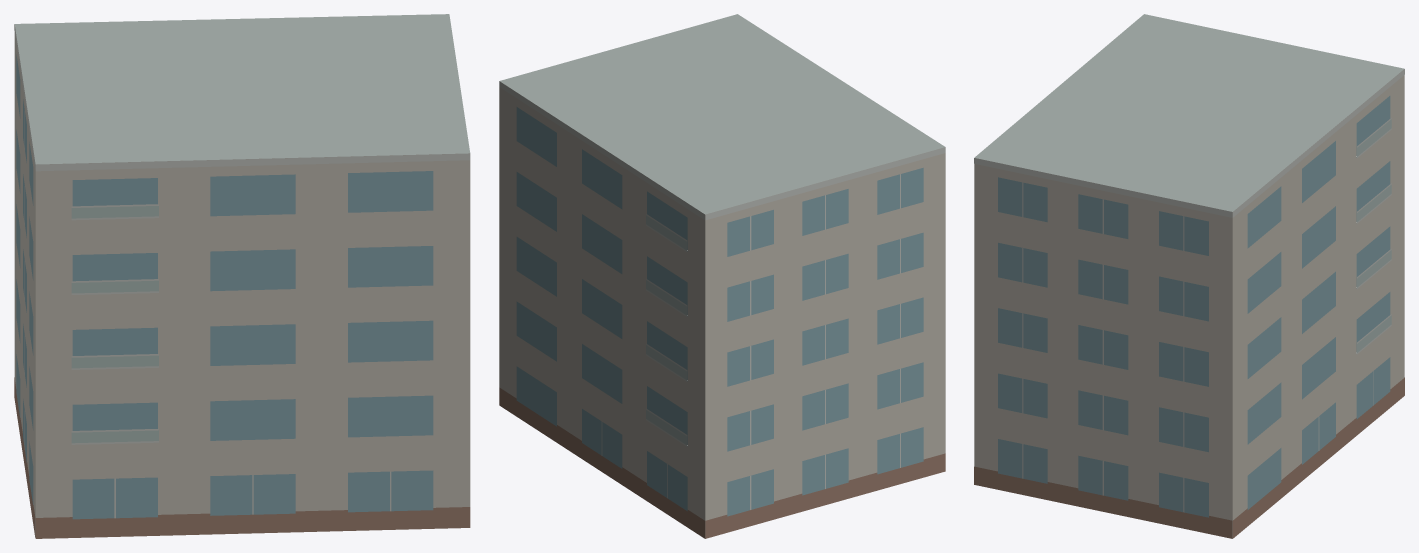
Rendered from survey-upis-33043846.glb.
3 renders of one model, left to right at view 1: azimuth 30°, elevation 25°; view 2: azimuth 150°, elevation 25°; view 3: azimuth 270°, elevation 25°, orthographic. The views are drawn at different scales.
Visible parts, largest first — view 1: survey-upis-33043846.tmp; view 2: survey-upis-33043846.tmp; view 3: survey-upis-33043846.tmp.
Boxes of the visible parts, <box> form: survey-upis-33043846.tmp: <box>14,14,470,538</box>; survey-upis-33043846.tmp: <box>499,14,945,538</box>; survey-upis-33043846.tmp: <box>974,14,1404,538</box>.
Size of the model in its own units: 17.41 by 13.4 by 16.01.
